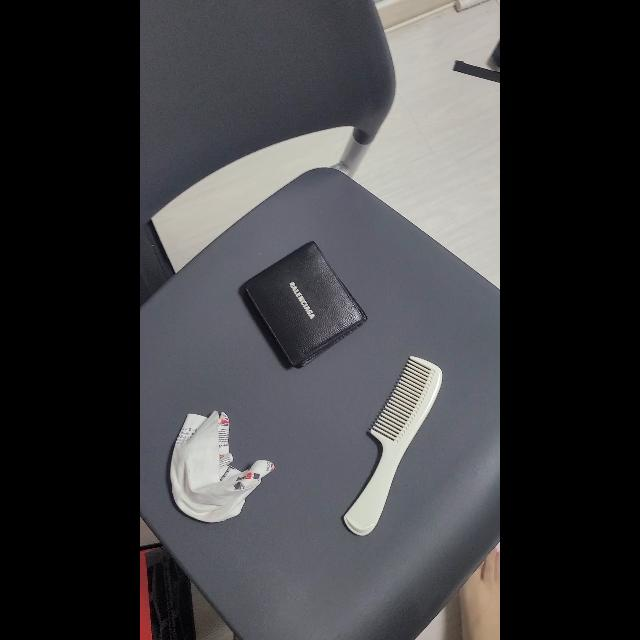COMB: (343, 356, 442, 536)
Glasses cleaning cloth: (170, 411, 276, 524)
WALLET: (245, 241, 368, 369)
